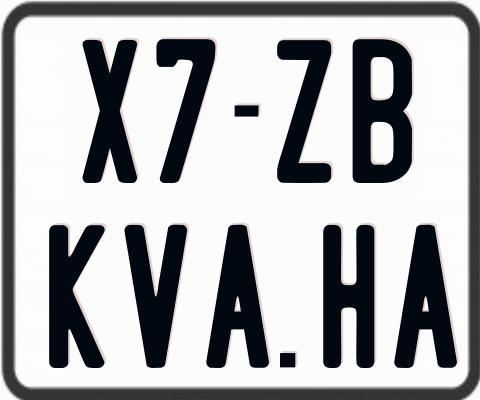7: (154, 39, 219, 188)
A: (393, 223, 458, 370), (203, 223, 268, 366)
B: (350, 36, 415, 186)
H: (323, 224, 377, 372)
K: (46, 224, 105, 368)
V: (123, 224, 188, 372)
X: (83, 37, 141, 180)
Z: (277, 40, 336, 184)
